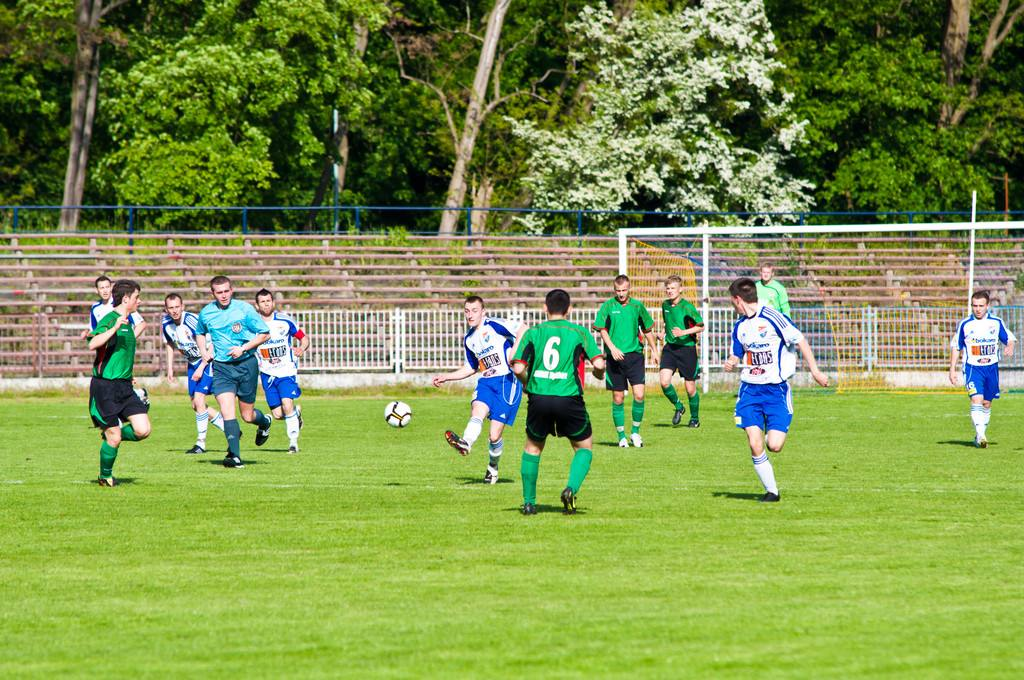football: (383, 400, 413, 427)
